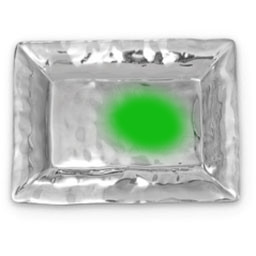focus: (101, 81, 191, 154)
